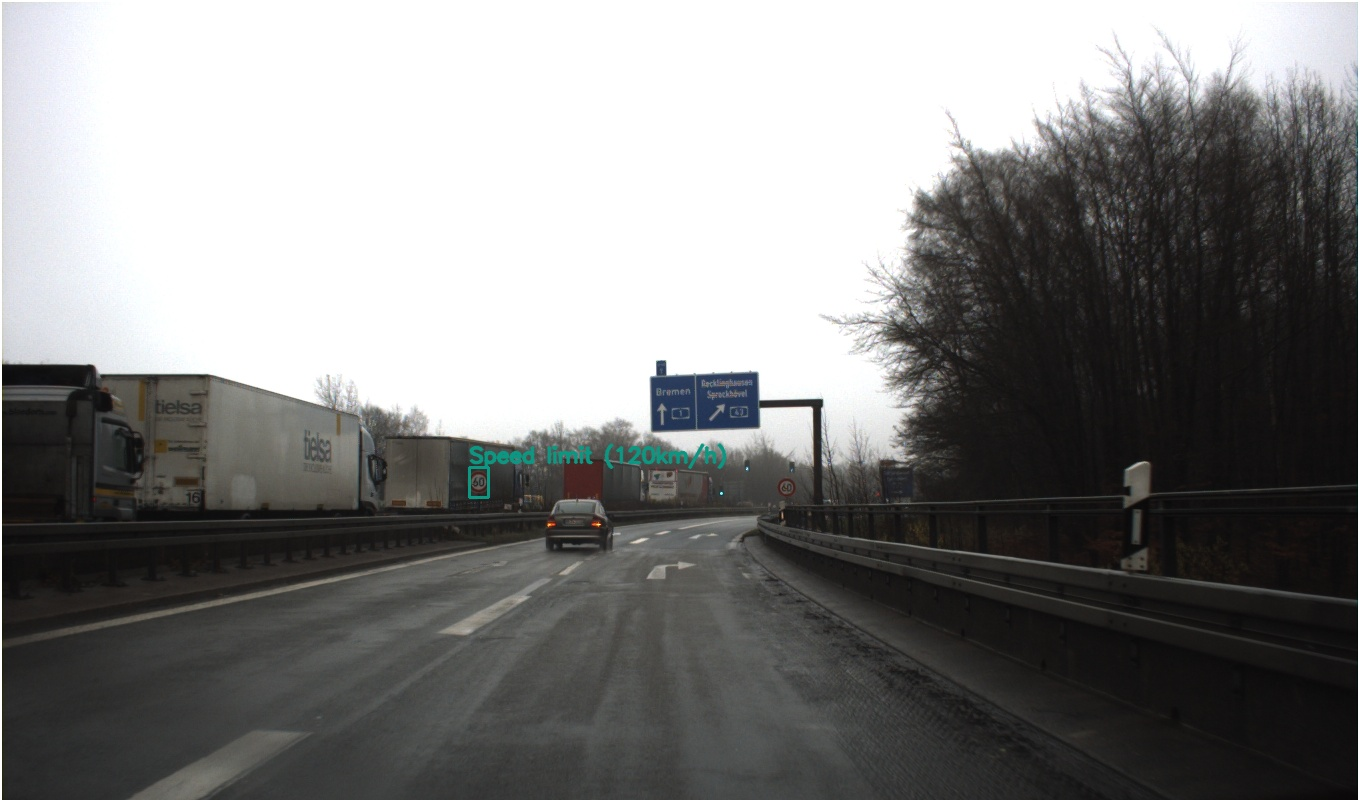Bicycles crossing: (798, 346, 845, 388)
Keep right: (109, 464, 153, 517)
